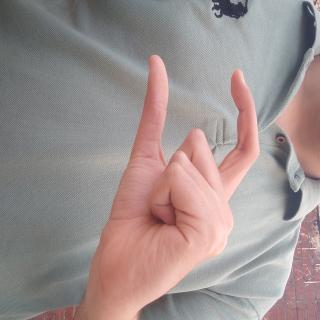DELL: (41, 76, 239, 318)
